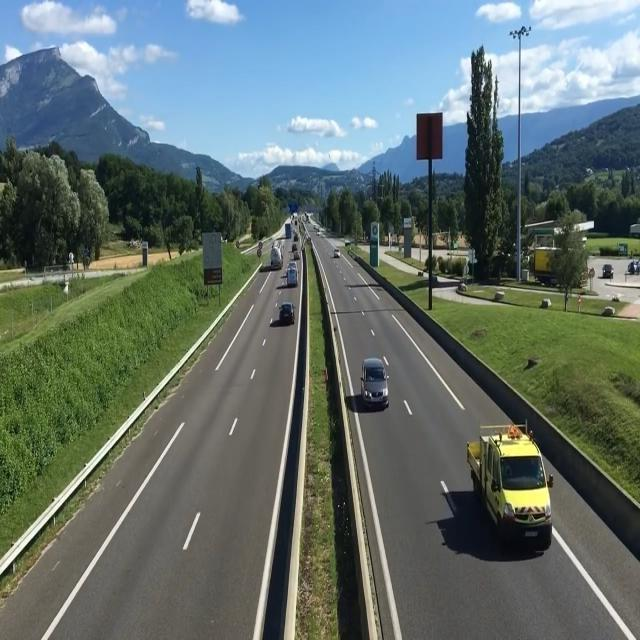Car: (464, 419, 554, 543), (358, 356, 391, 409), (279, 302, 295, 324), (333, 249, 343, 260)
Truck: (285, 260, 299, 288), (271, 241, 284, 269)
